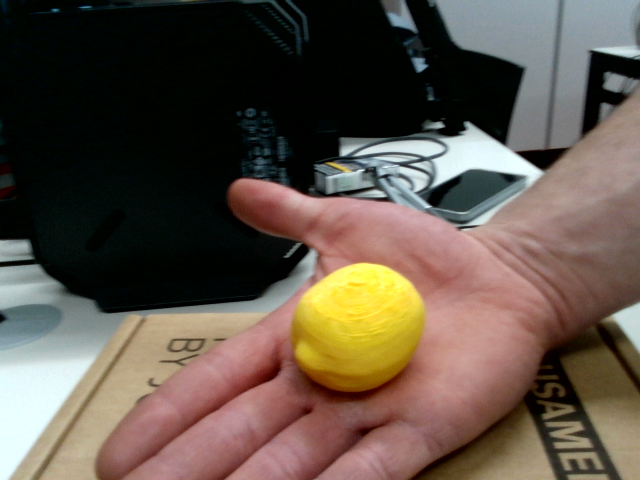lemon: (274, 243, 439, 412)
